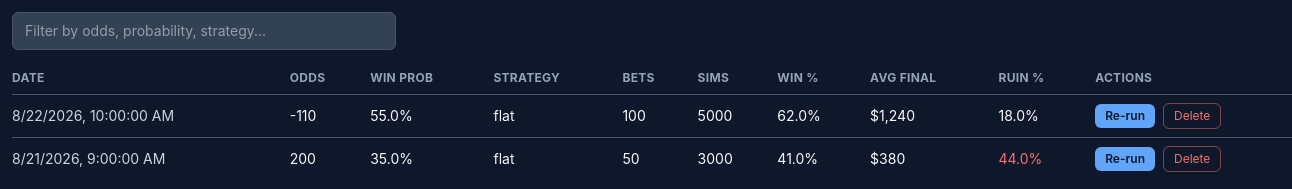
Test: ResultsHistoryTable › filters rows by text
Type "200" into the field named "Filter history".
click(204, 31); type("200")  # box [12,12,396,50]
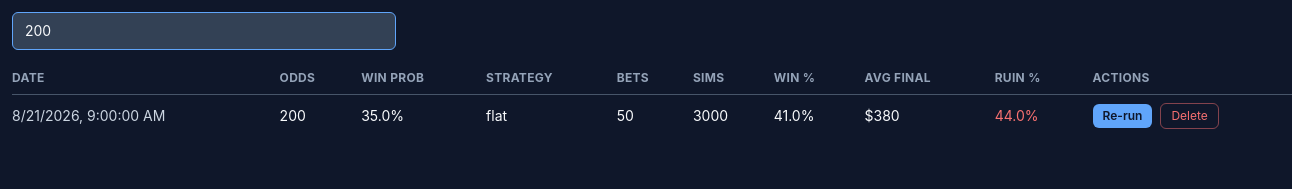
Check: the row with test id "history-row-2" is shown, box [12,94,1291,137]
Check: the row with test id "history-row-1" is gone
